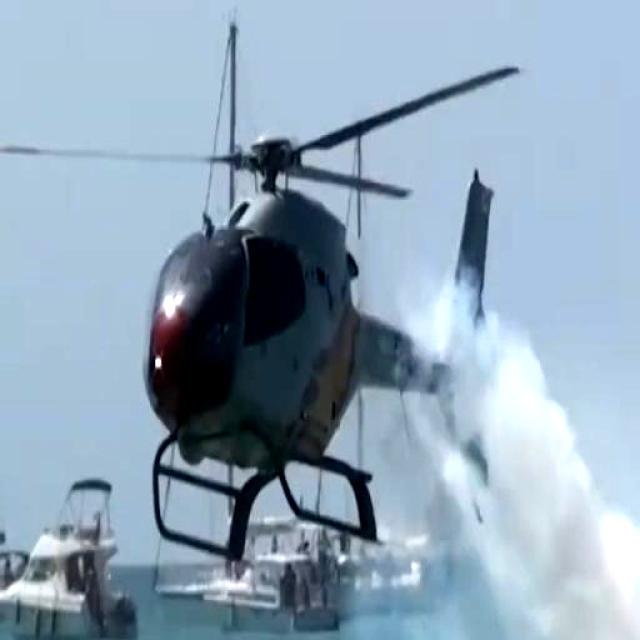drone: (130, 24, 520, 584)
